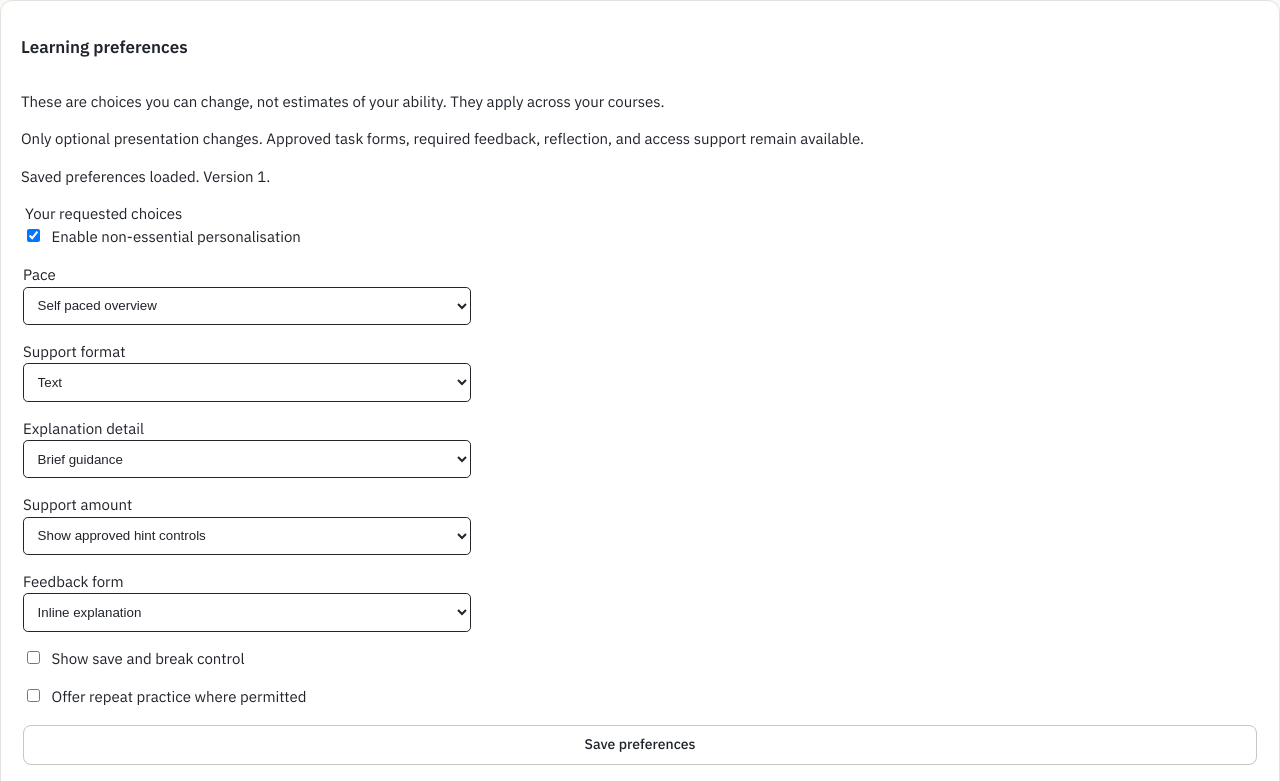
Test: restoring a cached document preserves an already-loaded unsaved preference draft
This screenshot has width=1280, height=781.
Expected: the text "Saved preferences loaded. Version 1." is shown, [21,167,270,186]
Select "Stepwise workspace guide" in the dropdown labelled "Pace" at (247, 306), box [23,287,471,325]
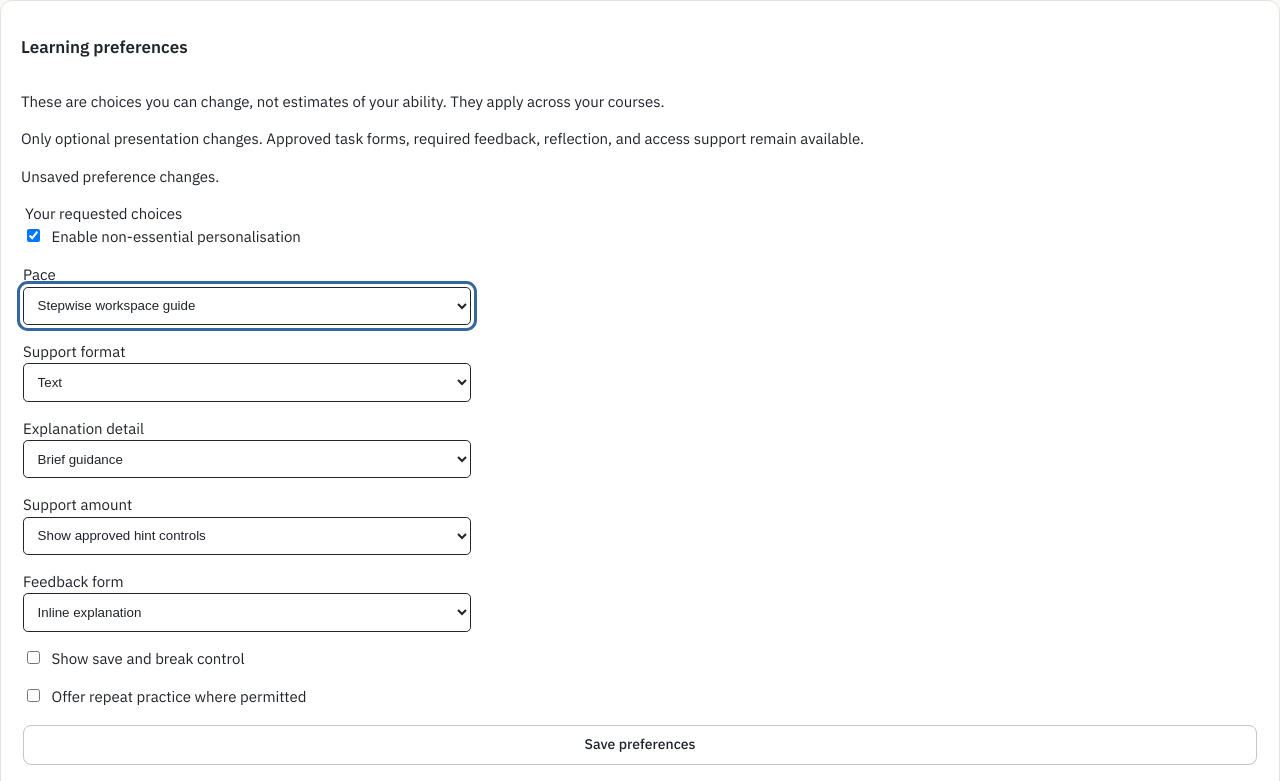
Expected: the text "Unsaved preference changes." is shown, [21,167,219,186]
